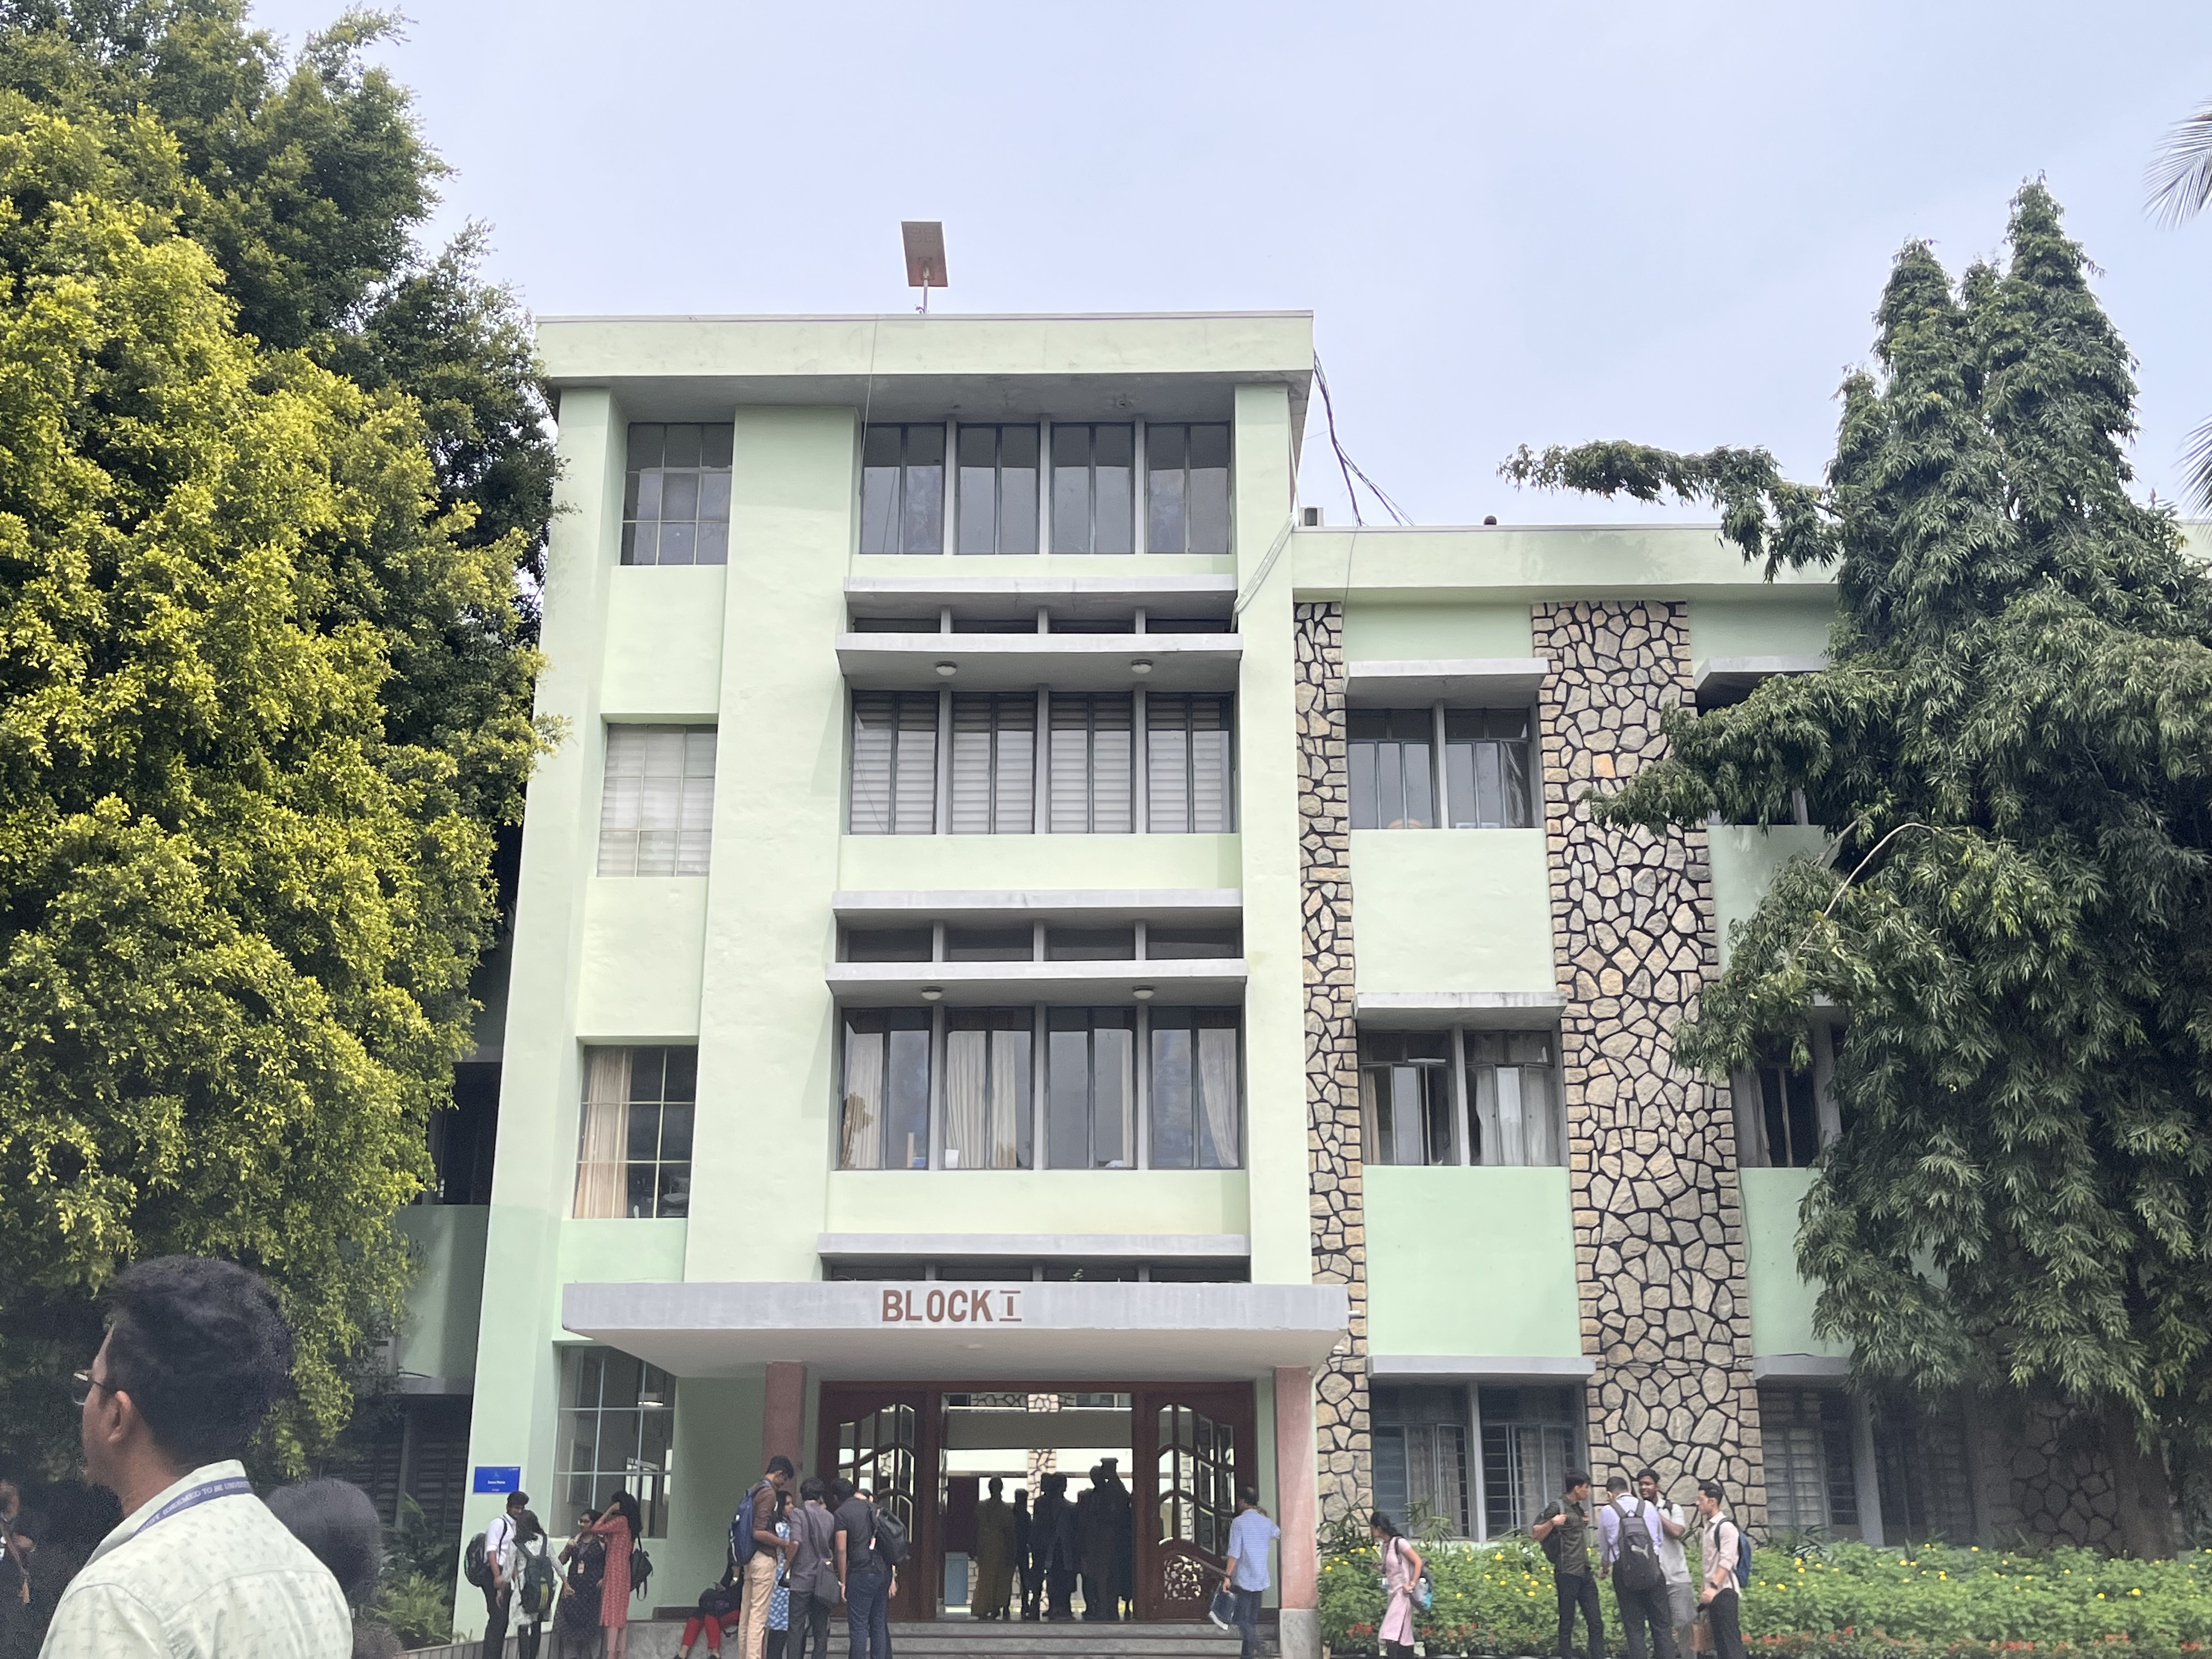Block 1: (592, 181, 1778, 1504)
